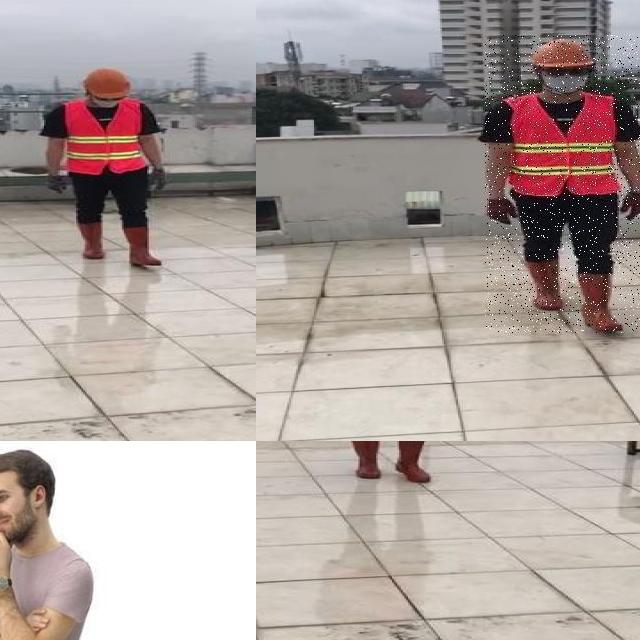No_Ear-Protection: (28, 482, 48, 514)
No_Glasses: (0, 484, 18, 509)
boots: (579, 272, 625, 333), (526, 258, 564, 309), (122, 224, 165, 267), (394, 441, 433, 483), (347, 441, 386, 480), (72, 222, 106, 260)
face_nomask: (0, 508, 27, 535)
hand_glove: (147, 167, 165, 191), (46, 173, 64, 195)
hand_noglove: (0, 531, 22, 602)
head_helmet: (524, 40, 603, 70), (85, 66, 133, 100)
person: (485, 35, 640, 333), (34, 62, 180, 278), (0, 447, 94, 640), (311, 441, 449, 495)
vest: (504, 94, 622, 195), (64, 99, 147, 174)
